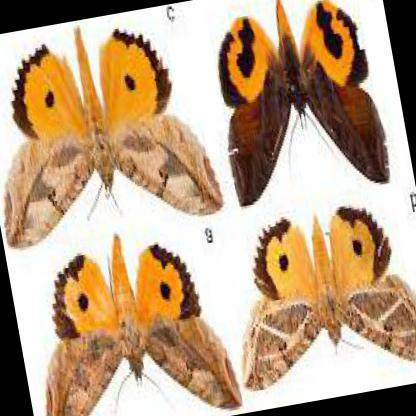fruit sucking moth: (3, 28, 223, 248), (43, 235, 241, 416), (218, 0, 390, 207), (242, 206, 416, 393)
